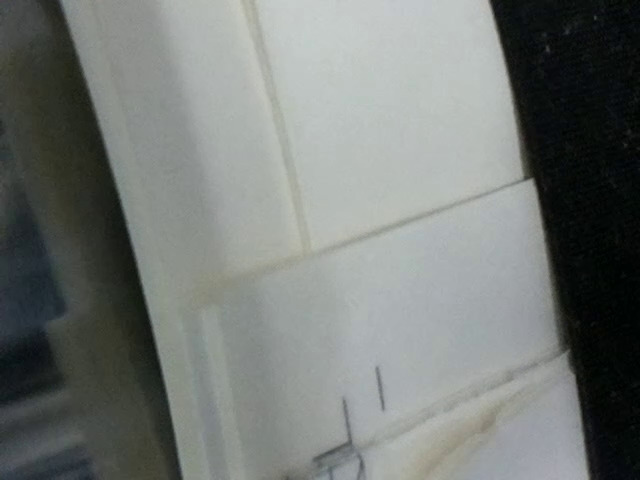misaligned: (259, 395, 374, 480)
